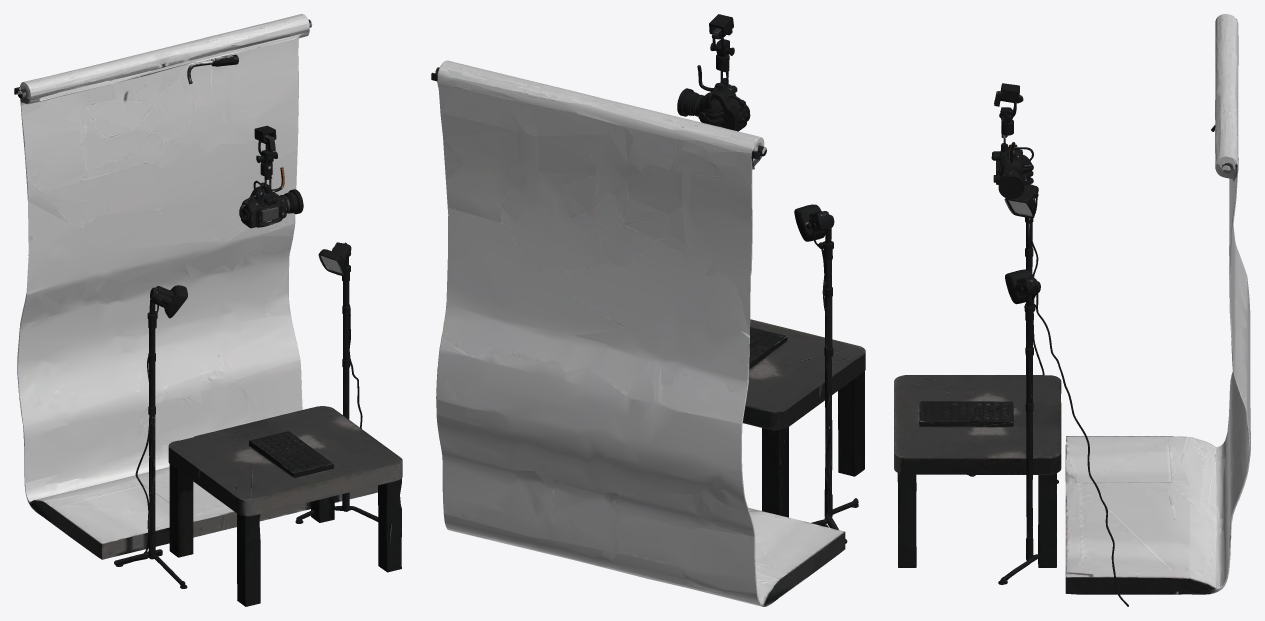
The model's file is photoStation.glb.
The picture shows the model from 3 angles, left to right: view 1: azimuth 30°, elevation 25°; view 2: azimuth 150°, elevation 25°; view 3: azimuth 270°, elevation 25°; orthographic projection. The views are drawn at different scales.
Bounding box in the file's own units: 1.45 × 1.9 × 1.39.
Materials: 1 (1 with a texture image).
